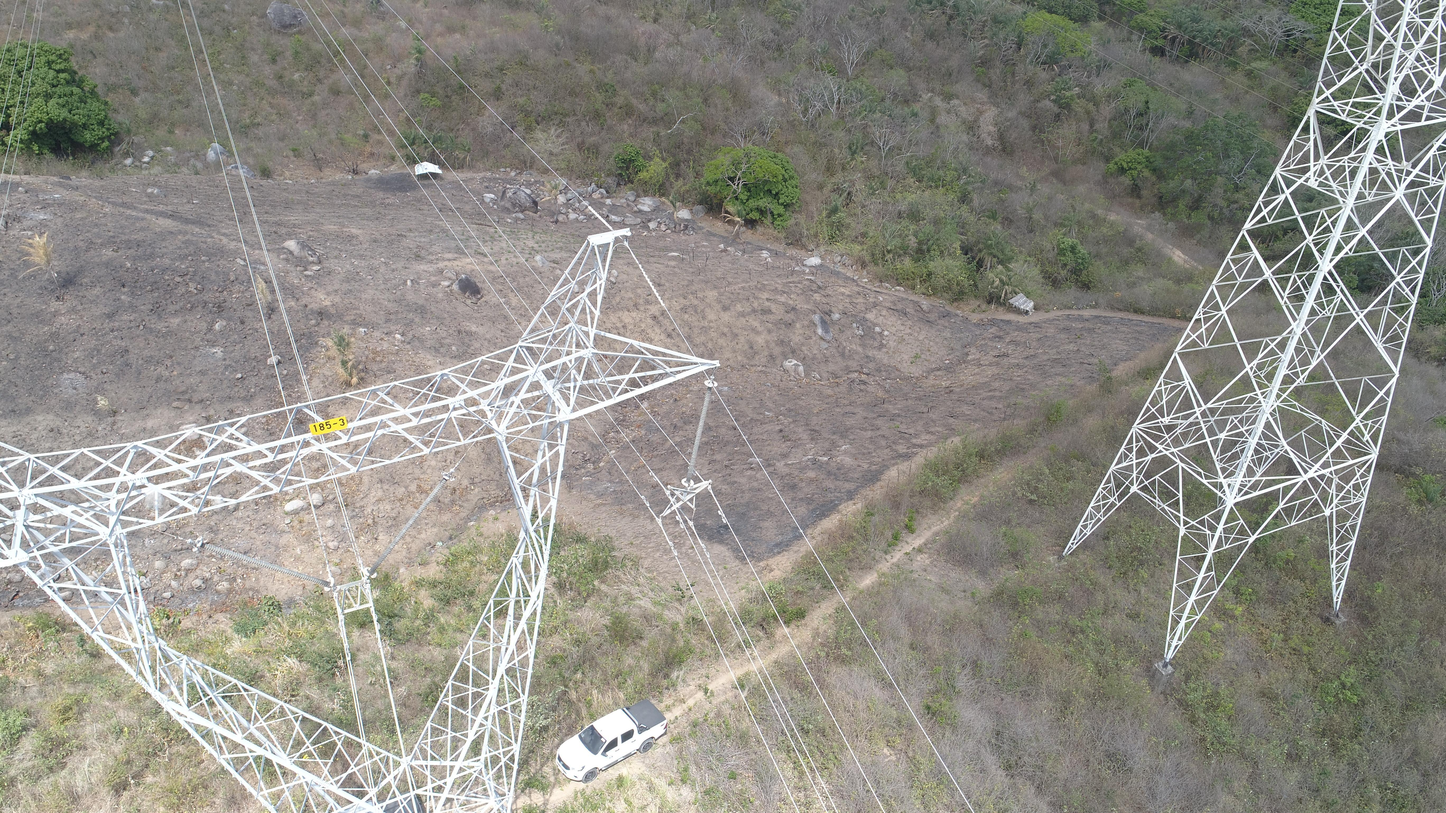power_tower: (0, 227, 719, 813), (1062, 1, 1446, 666)
